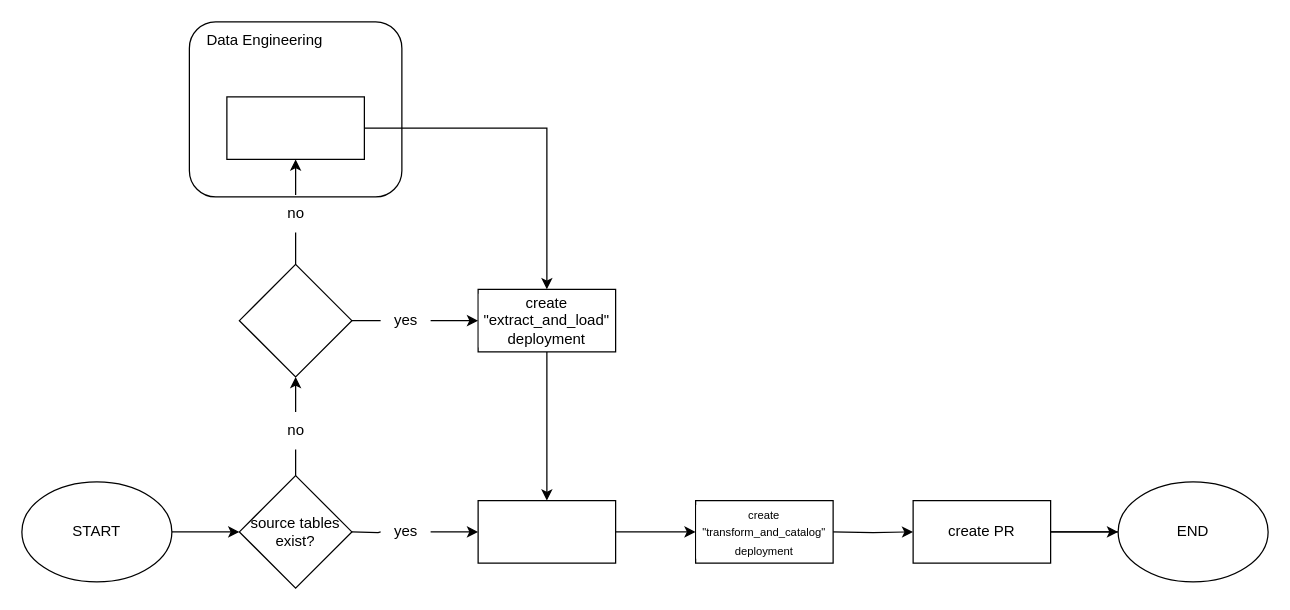
Some shapes in this 1290 by 610 pixel diagram are drawn without their labels. The shapes that lost their labels are listed below. From the top down, each one's centre as x and y in pixels, then its label:
At (295,127): "add source".
At (295,320): "source exists?".
At (546,531): "build model".
